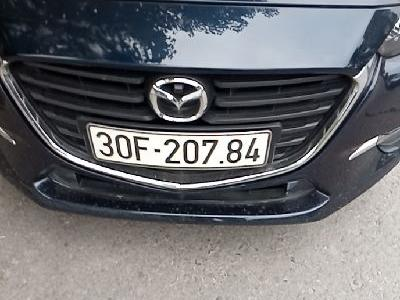car: (85, 123, 272, 170)
